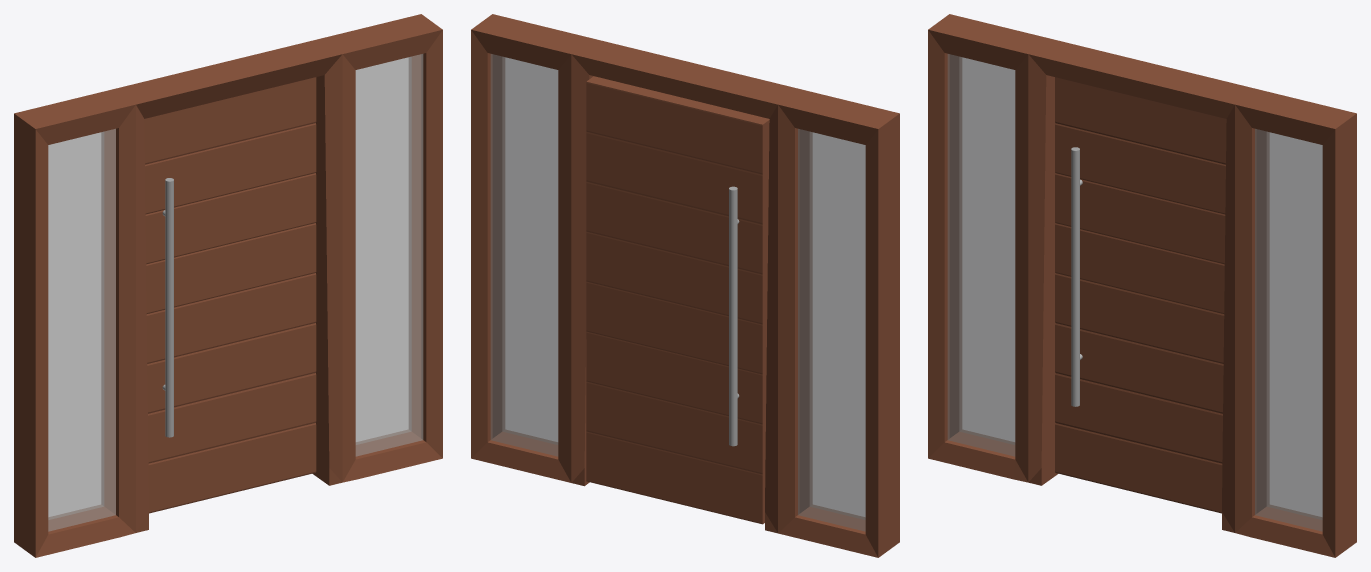
Rendered from mainEntrance.fbx.
The picture shows the model from 3 angles, left to right: view 1: azimuth 30°, elevation 25°; view 2: azimuth 150°, elevation 25°; view 3: azimuth 330°, elevation 25°; orthographic projection.
Visible parts, largest first — view 1: Cube, Cube.002; view 2: Cube, Cube.002; view 3: Cube, Cube.002.
Boxes of the visible parts, bbox=[...] form: Cube: bbox=[14, 14, 442, 557]; Cube.002: bbox=[144, 77, 316, 513]; Cube: bbox=[471, 14, 899, 557]; Cube.002: bbox=[586, 76, 769, 524]; Cube: bbox=[928, 14, 1356, 557]; Cube.002: bbox=[1055, 77, 1226, 513].
Bounding box in the file's own units: 269 × 271 × 32.82.
